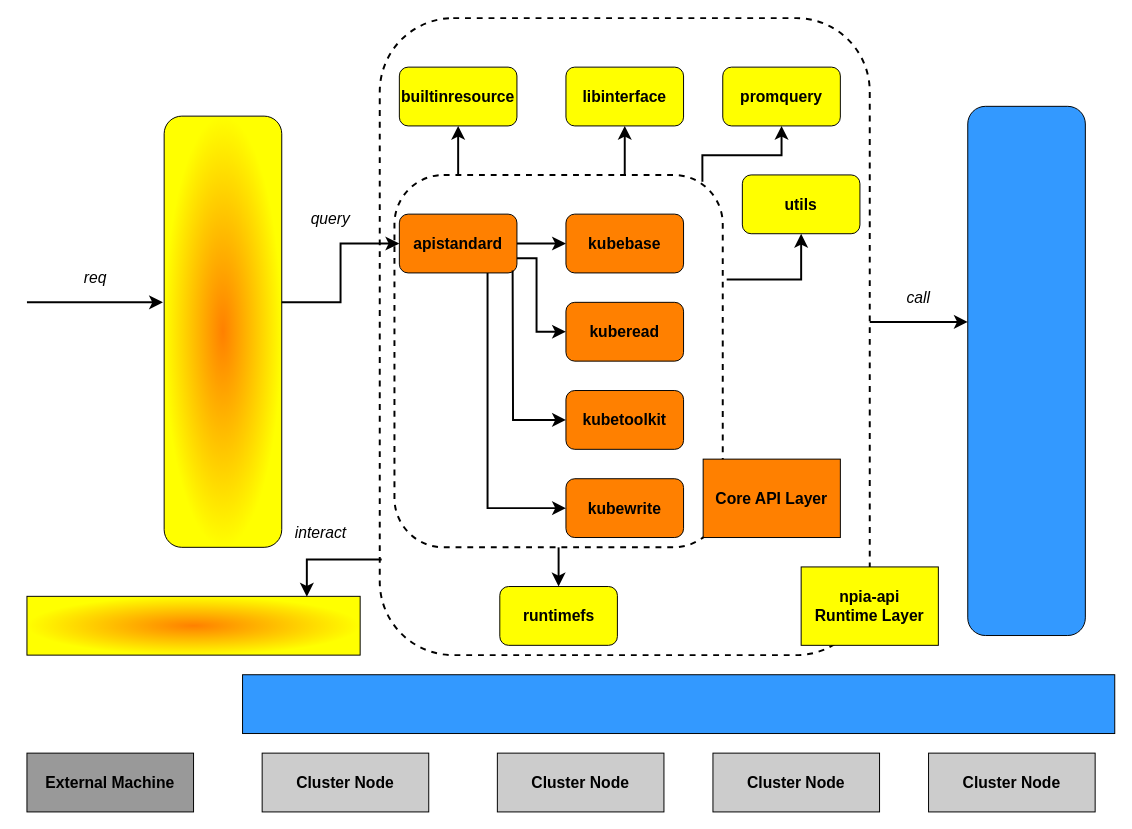
The diagram is 1132 pixels wide and 829 high, and some of its shapes have lost their labels. The shapes that lost their labels are listed below. From the top down, each one's centre as x and y in pixels, then its label:
(x=222, y=331): npia-api compliant system (npia-server) (npia-server-sock)
(x=1026, y=370): Kubernetes API Server
(x=193, y=625): npia-api Runtime
(x=678, y=704): Kubernetes Cluster
